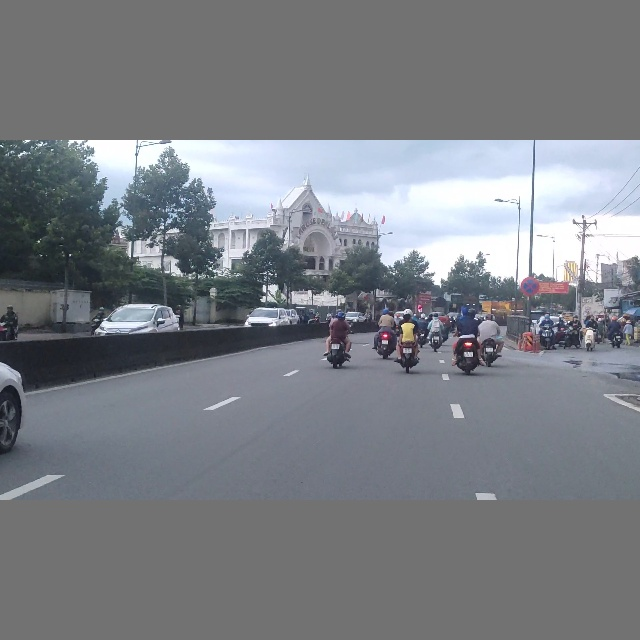P.130: (521, 277, 539, 295)
